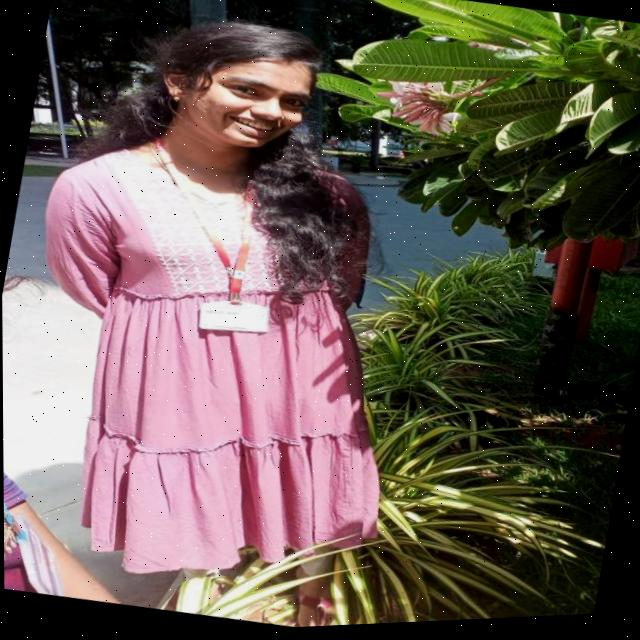id_card: (125, 135, 313, 351)
